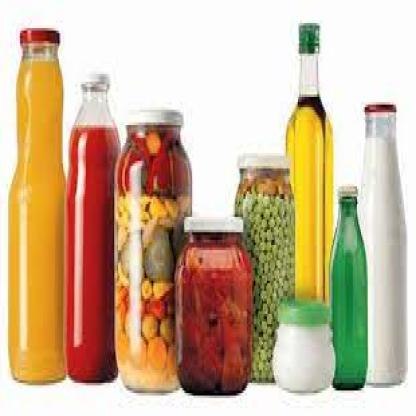Can: (115, 106, 194, 397), (6, 25, 66, 386), (65, 72, 122, 384), (174, 214, 254, 398), (359, 101, 409, 390), (284, 19, 334, 307), (236, 153, 295, 383), (330, 184, 368, 390)
